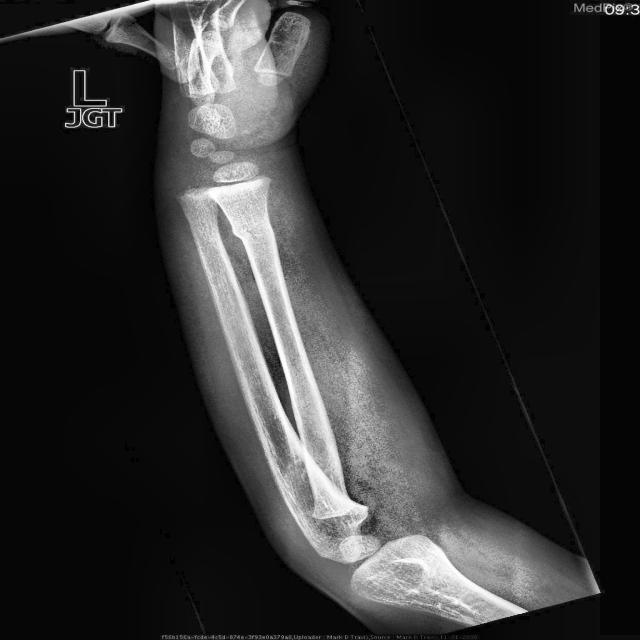line: (230, 227, 258, 240)
